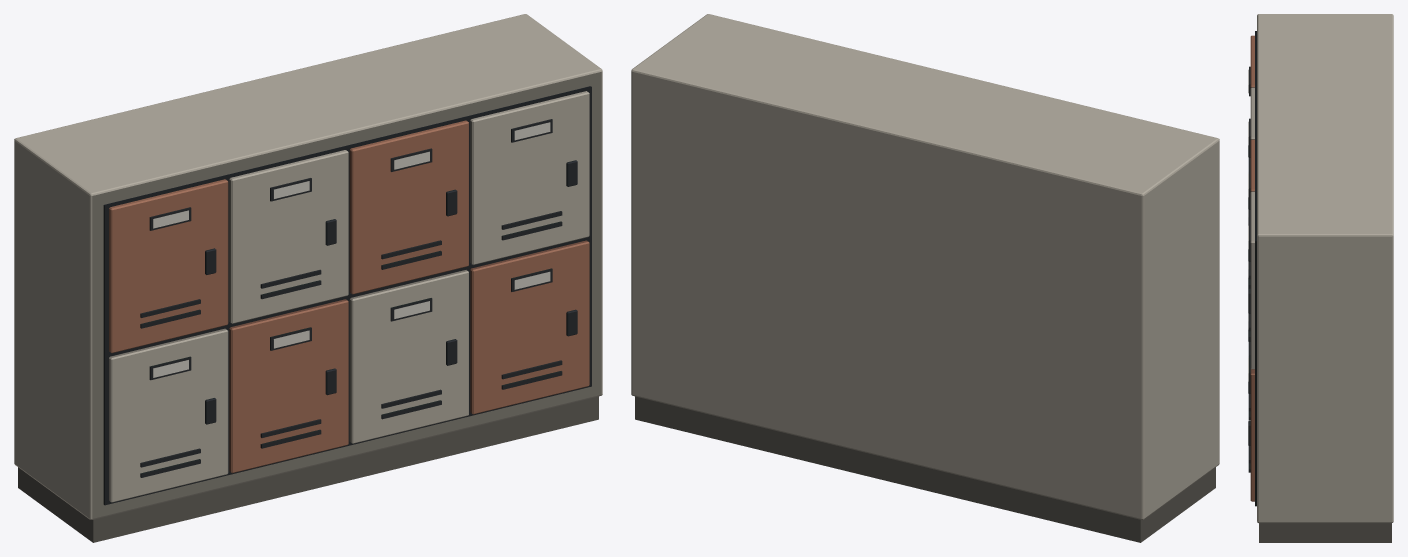
The model's file is prop_school_low_locker.glb.
The picture shows the model from 3 angles, left to right: view 1: azimuth 30°, elevation 25°; view 2: azimuth 150°, elevation 25°; view 3: azimuth 270°, elevation 25°; orthographic projection. The views are drawn at different scales.
Parts seen in each view (by area): view 1: prop_school_low_locker; view 2: prop_school_low_locker; view 3: prop_school_low_locker.
Boxes of the visible parts, x1,y1,x2,y2 form: prop_school_low_locker: (14, 14, 602, 542); prop_school_low_locker: (631, 14, 1219, 542); prop_school_low_locker: (1248, 14, 1393, 542).
Bounding box in the file's own units: 1.38 × 0.9 × 0.383.
